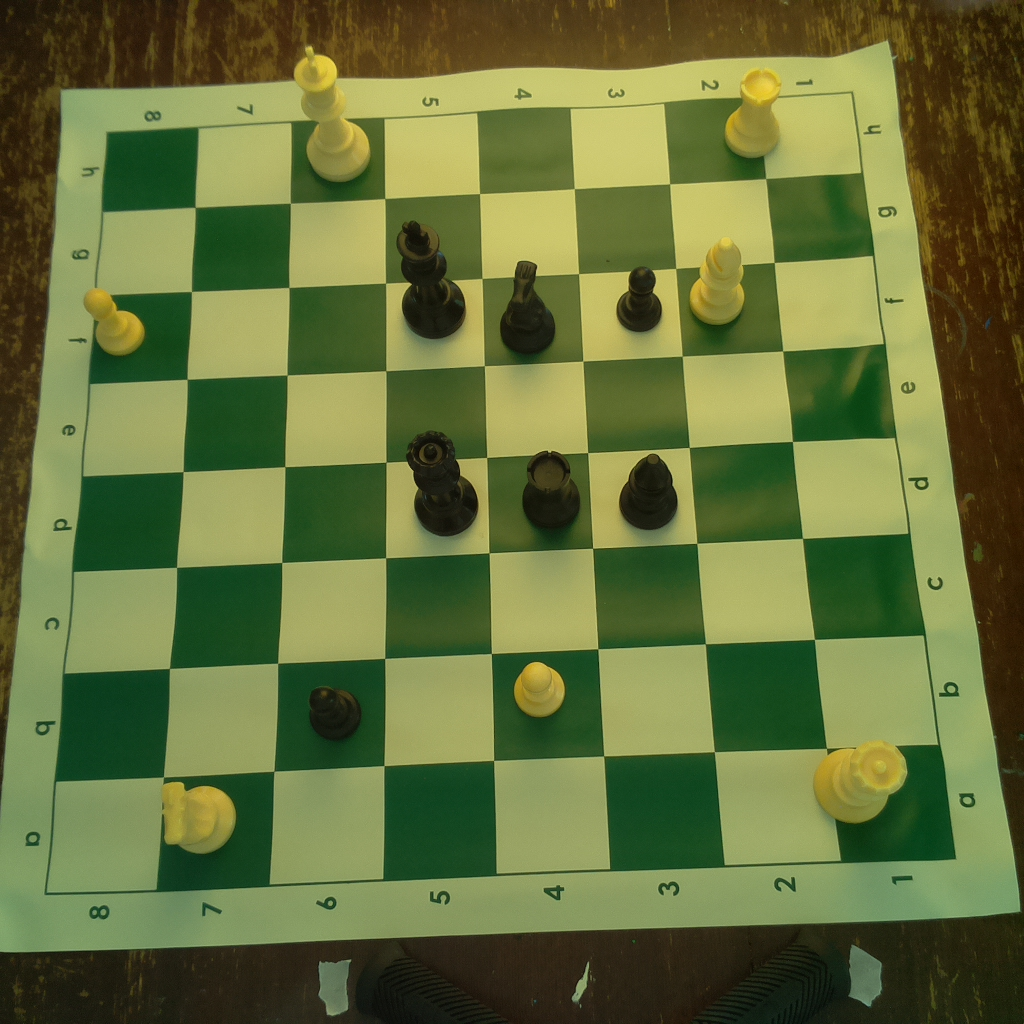black_bishop: (616, 448, 680, 531)
black_king: (389, 217, 471, 341)
black_knight: (490, 256, 559, 361)
black_pawn: (306, 678, 366, 744), (614, 265, 666, 336)
black_queen: (407, 426, 481, 539)
black_rook: (516, 445, 584, 532)
file_a: (46, 745, 957, 893)
file_b: (57, 636, 938, 779)
file_c: (63, 535, 925, 674)
file_d: (72, 438, 911, 574)
file_e: (80, 344, 898, 477)
file_f: (90, 254, 883, 386)
file_g: (94, 174, 872, 300)
file_h: (99, 93, 864, 214)
outline: (42, 91, 955, 896)
rank_1: (760, 92, 955, 864)
rank_2: (664, 96, 842, 867)
rank_3: (570, 99, 728, 874)
rank_4: (477, 104, 611, 877)
rank_5: (384, 112, 498, 880)
rank_6: (267, 119, 386, 883)
rank_7: (158, 122, 293, 892)
rank_8: (45, 128, 201, 895)
white_bishop: (684, 231, 751, 331)
white_king: (285, 41, 380, 183)
white_knight: (155, 778, 240, 857)
white_pawn: (81, 284, 150, 356), (510, 654, 568, 719)
white_queen: (815, 732, 911, 826)
white_rook: (721, 65, 785, 160)
